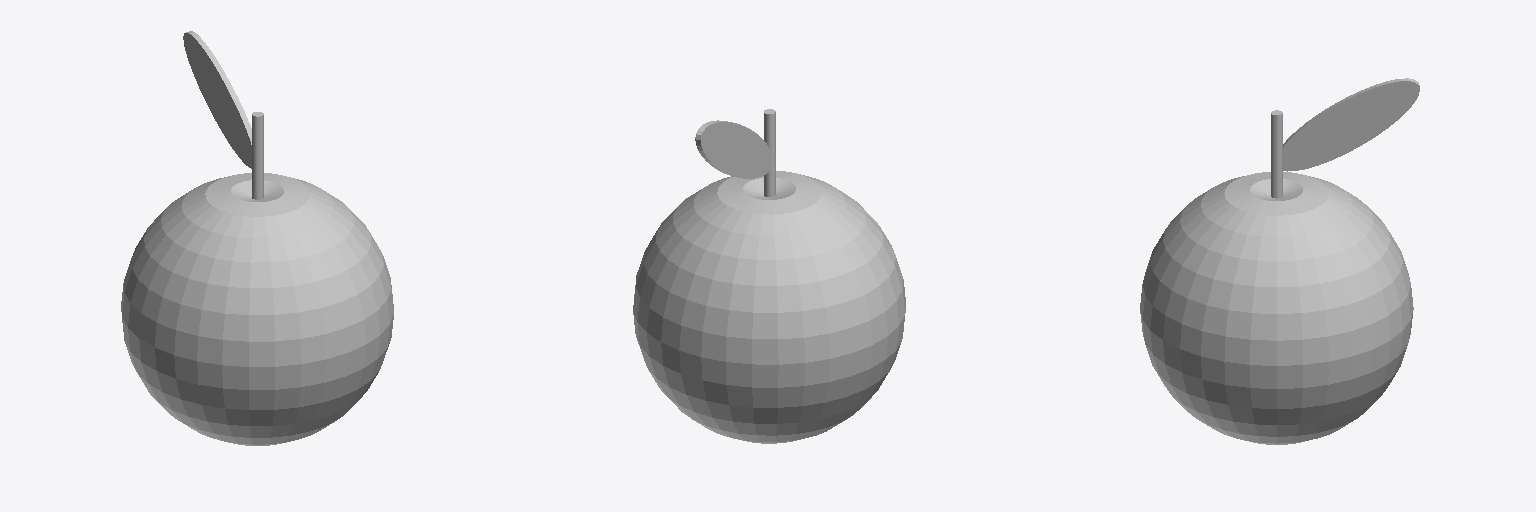
The model's file is apple.obj.
3 views of the same model, side by side, from view 1: azimuth 30°, elevation 25°; view 2: azimuth 150°, elevation 25°; view 3: azimuth 270°, elevation 25° (orthographic).
Parts seen in each view (by area): view 1: Цилиндр; view 2: Цилиндр; view 3: Цилиндр.
Boxes of the visible parts, <box> form: Цилиндр: <box>121,31,393,445</box>; Цилиндр: <box>633,109,905,443</box>; Цилиндр: <box>1140,78,1419,444</box>.
Size of the model in its own units: 2 by 2.84 by 2.05.